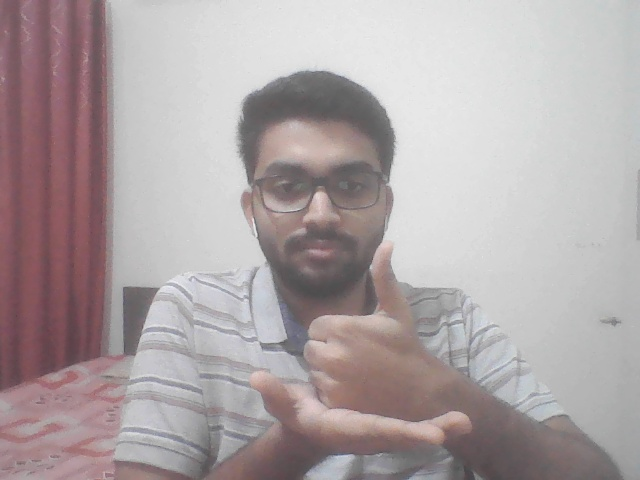help: (248, 224, 503, 455)
